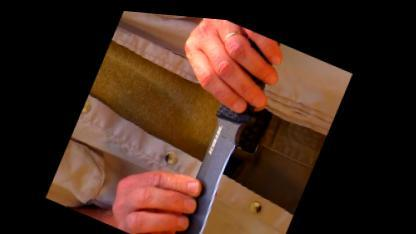knife: (148, 14, 294, 233)
